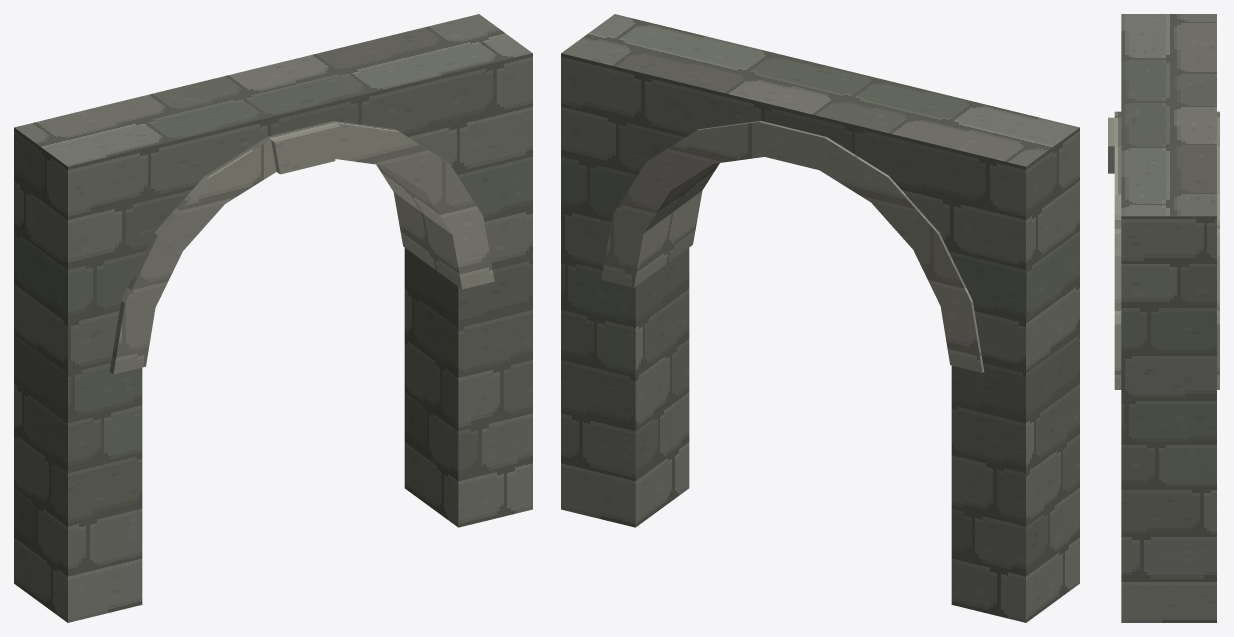
Rendered from great_doorway.glb.
3 views of the same model, side by side, from view 1: azimuth 30°, elevation 25°; view 2: azimuth 150°, elevation 25°; view 3: azimuth 270°, elevation 25° (orthographic). The views are drawn at different scales.
Visible parts, largest first — view 1: Great doorway; view 2: Great doorway; view 3: Great doorway.
Boxes of the visible parts, x1,y1,x2,y2 form: Great doorway: [14, 14, 532, 622]; Great doorway: [561, 14, 1079, 622]; Great doorway: [1108, 14, 1219, 622].
Bounding box in the file's own units: 2 × 1.88 × 0.467.
Materials: 2 (2 with a texture image).
